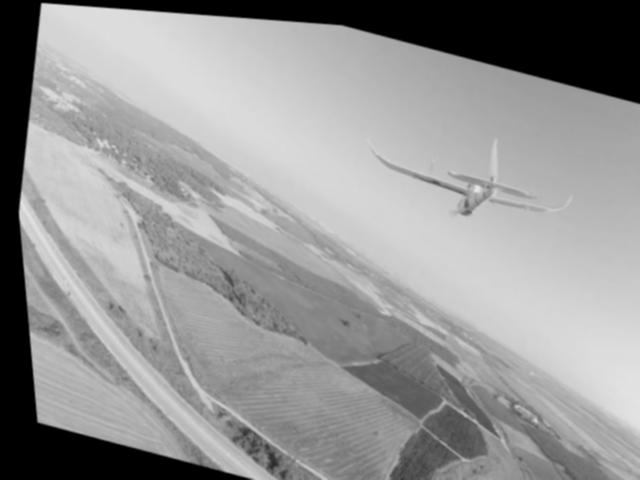hedef: (340, 101, 591, 250)
